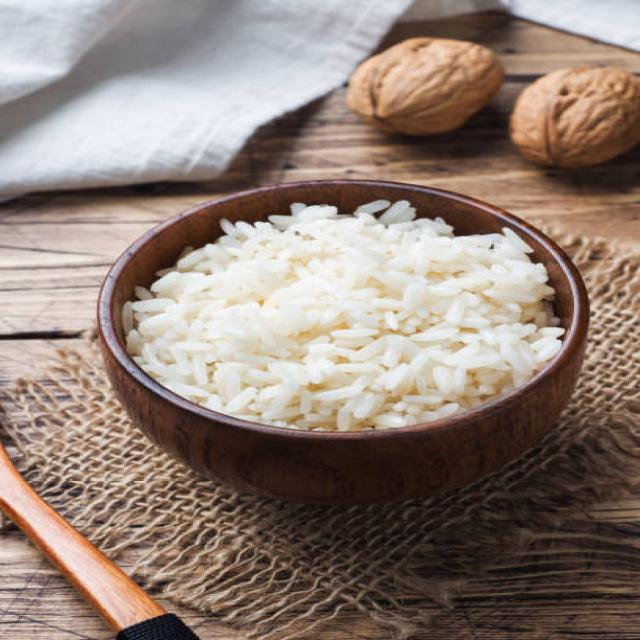Rice: (123, 198, 566, 428)
